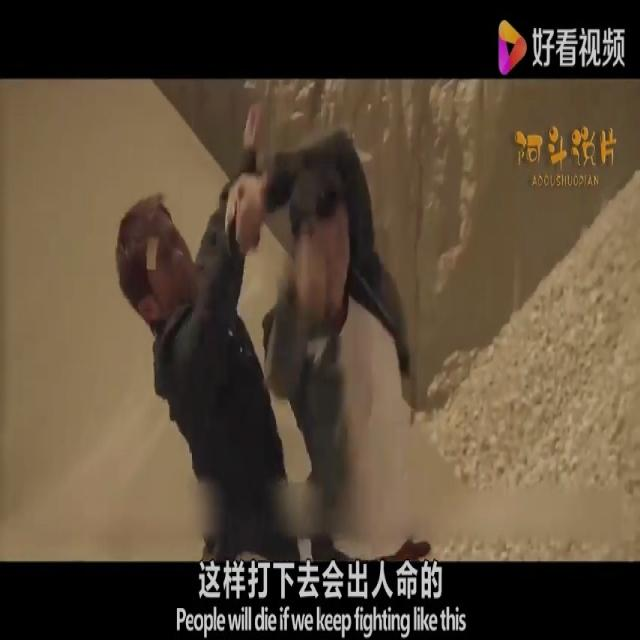fight: (111, 113, 441, 558)
